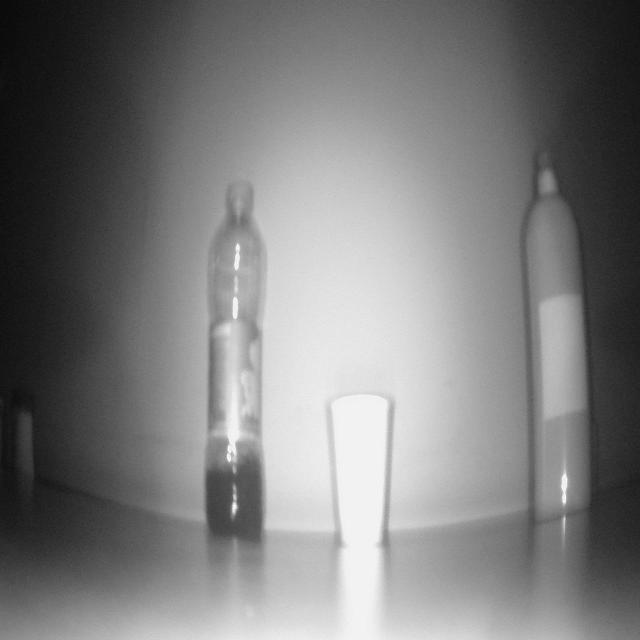targets: (522, 144, 593, 529), (206, 185, 262, 542), (323, 396, 398, 540), (12, 405, 38, 488)
